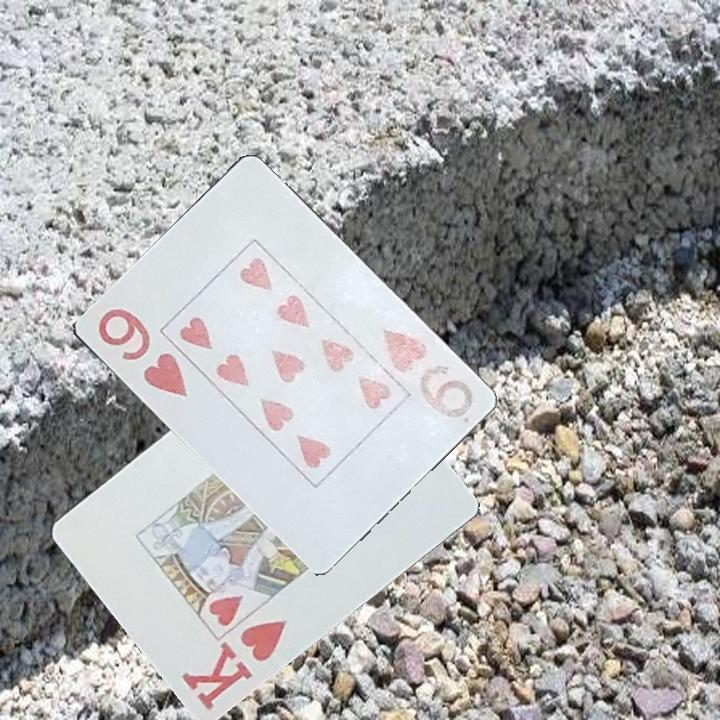9h: (375, 324, 476, 426), (93, 304, 191, 405)
Kh: (177, 616, 291, 714)
